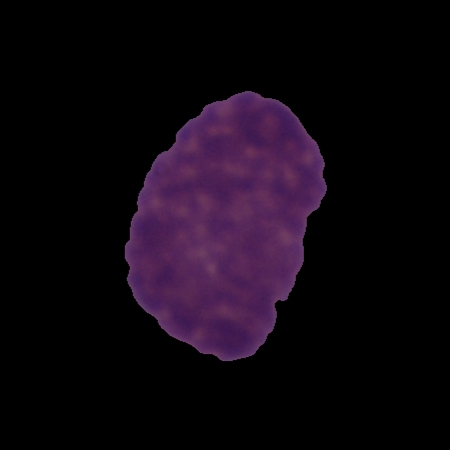HEM: (122, 85, 333, 366)
